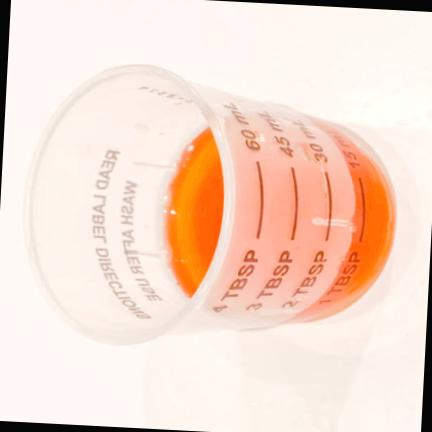container: (27, 65, 393, 344)
fluid: (294, 112, 396, 320)
fluid-surface: (161, 112, 355, 328)
